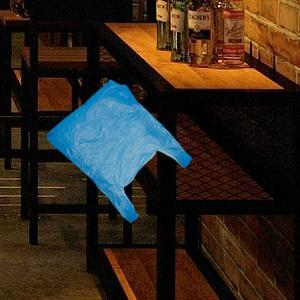plastic_bag: (44, 75, 194, 227)
